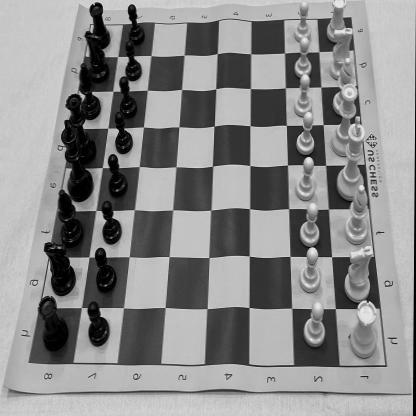black-bishop: (57, 188, 84, 247), (78, 64, 102, 119)
black-king: (60, 119, 94, 202)
black-knight: (43, 240, 76, 295), (84, 31, 110, 82)
black-pawn: (87, 301, 111, 347), (94, 247, 117, 294), (101, 198, 122, 246), (107, 154, 129, 196), (113, 111, 133, 155), (119, 75, 138, 118), (128, 3, 146, 45), (125, 38, 142, 81)
black-queen: (66, 94, 96, 162)
black-rook: (36, 296, 68, 353), (89, 2, 110, 48)
white-bishop: (345, 183, 371, 244), (333, 58, 356, 116)
white-king: (336, 115, 368, 200)
white-knight: (344, 245, 375, 302), (329, 26, 353, 79)
white-pawn: (298, 247, 326, 294), (302, 302, 328, 350), (299, 203, 323, 247), (294, 112, 318, 156), (295, 157, 318, 202), (293, 1, 313, 44), (292, 76, 312, 118), (292, 38, 312, 78)
white-queen: (332, 82, 361, 157)
white-rook: (350, 296, 380, 360), (326, 0, 348, 43)
